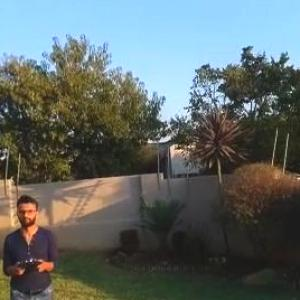follow: (1, 191, 64, 299)
